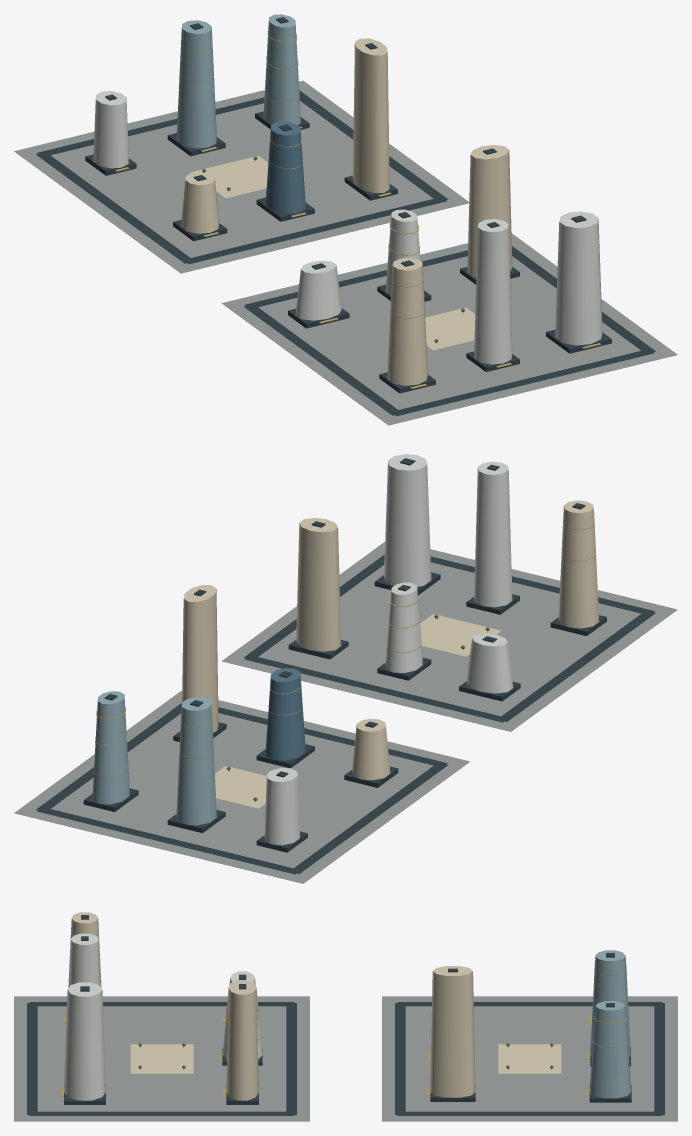
File: GC-TILE-15-19.glb
3 views of the same model, one above another, from view 1: azimuth 30°, elevation 25°; view 2: azimuth 150°, elevation 25°; view 3: azimuth 270°, elevation 25° (orthographic). The views are drawn at different scales.
Visible parts, largest first — view 1: GC-TILE-15-19-paving, GC-TILE-15-19-ivory, GC-TILE-15-19-white, GC-TILE-15-19-dark, GC-TILE-15-19-glass, GC-TILE-15-19-blue, GC-TILE-15-19-gold; view 2: GC-TILE-15-19-paving, GC-TILE-15-19-ivory, GC-TILE-15-19-white, GC-TILE-15-19-dark, GC-TILE-15-19-glass, GC-TILE-15-19-blue; view 3: GC-TILE-15-19-paving, GC-TILE-15-19-ivory, GC-TILE-15-19-dark, GC-TILE-15-19-white, GC-TILE-15-19-glass, GC-TILE-15-19-gold.
Part boxes in pixels (<box>): GC-TILE-15-19-paving: <box>14,80,677,425</box>; GC-TILE-15-19-ivory: <box>181,38,512,385</box>; GC-TILE-15-19-white: <box>93,91,602,364</box>; GC-TILE-15-19-dark: <box>36,17,655,416</box>; GC-TILE-15-19-glass: <box>176,14,300,148</box>; GC-TILE-15-19-blue: <box>265,121,305,213</box>; GC-TILE-15-19-gold: <box>115,31,601,388</box>; GC-TILE-15-19-paving: <box>14,542,677,883</box>; GC-TILE-15-19-ivory: <box>182,500,599,808</box>; GC-TILE-15-19-white: <box>264,454,513,845</box>; GC-TILE-15-19-dark: <box>36,458,655,874</box>; GC-TILE-15-19-glass: <box>92,691,216,825</box>; GC-TILE-15-19-blue: <box>265,668,305,760</box>; GC-TILE-15-19-paving: <box>14,996,677,1121</box>; GC-TILE-15-19-ivory: <box>68,912,561,1100</box>; GC-TILE-15-19-dark: <box>27,915,664,1115</box>; GC-TILE-15-19-white: <box>64,933,627,1100</box>; GC-TILE-15-19-glass: <box>589,950,631,1098</box>; GC-TILE-15-19-gold: <box>60,932,629,1096</box>.
Bounding box in the file's own units: 338 × 159 × 758.
